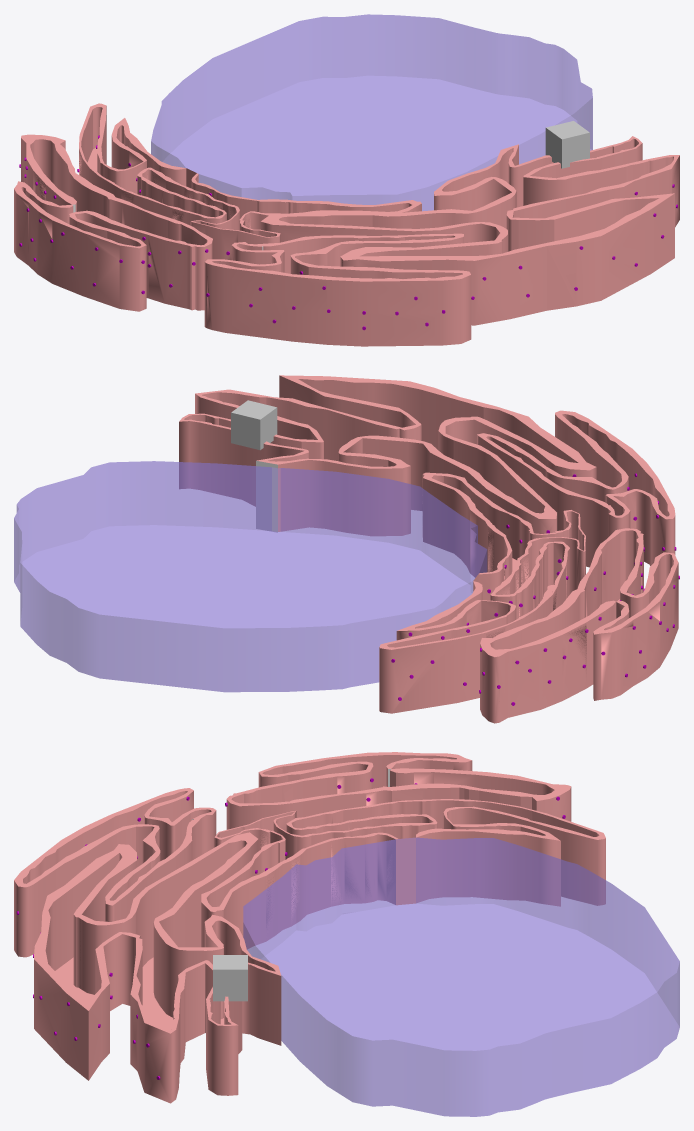
File: Endoplasmic Reticulum.fbx
The picture shows the model from 3 angles, top to bottom: view 1: azimuth 30°, elevation 25°; view 2: azimuth 150°, elevation 25°; view 3: azimuth 270°, elevation 25°; orthographic projection. The views are drawn at different scales.
Parts seen in each view (by area): view 1: SketchUp.002, SketchUp.007, SketchUp.009, SketchUp.014, SketchUp.005, SketchUp.003, SketchUp.013, Cube, SketchUp.015; view 2: SketchUp.002, SketchUp.007, SketchUp.005, SketchUp.014, SketchUp.003, SketchUp.009, SketchUp.015, SketchUp.013, Cube, SketchUp; view 3: SketchUp.002, SketchUp.005, SketchUp.007, SketchUp.014, SketchUp.003, SketchUp.009, SketchUp.013, Cube, SketchUp.015.
Part boxes in pixels (x1,y1,x2,y2): SketchUp.002: [151, 14, 592, 211]; SketchUp.007: [260, 136, 679, 325]; SketchUp.009: [204, 233, 471, 346]; SketchUp.014: [14, 134, 213, 311]; SketchUp.005: [79, 103, 421, 260]; SketchUp.003: [279, 138, 673, 256]; SketchUp.013: [212, 235, 462, 278]; Cube: [545, 121, 589, 168]; SketchUp.015: [21, 138, 71, 205]; SketchUp.002: [14, 461, 487, 692]; SketchUp.007: [179, 375, 596, 535]; SketchUp.005: [379, 472, 585, 713]; SketchUp.014: [480, 528, 678, 700]; SketchUp.003: [184, 379, 578, 513]; SketchUp.009: [477, 410, 675, 567]; SketchUp.015: [480, 602, 616, 723]; SketchUp.013: [486, 414, 669, 516]; Cube: [231, 400, 277, 450]; SketchUp: [256, 460, 277, 532]; SketchUp.002: [243, 837, 679, 1116]; SketchUp.005: [201, 799, 605, 948]; SketchUp.007: [34, 832, 281, 1103]; SketchUp.014: [226, 752, 570, 829]; SketchUp.003: [45, 840, 275, 1030]; SketchUp.009: [14, 788, 216, 957]; SketchUp.013: [23, 791, 211, 900]; Cube: [213, 955, 247, 1001]; SketchUp.015: [536, 787, 571, 821].
Bounding box in the file's own units: 4028 × 617 × 3819.
